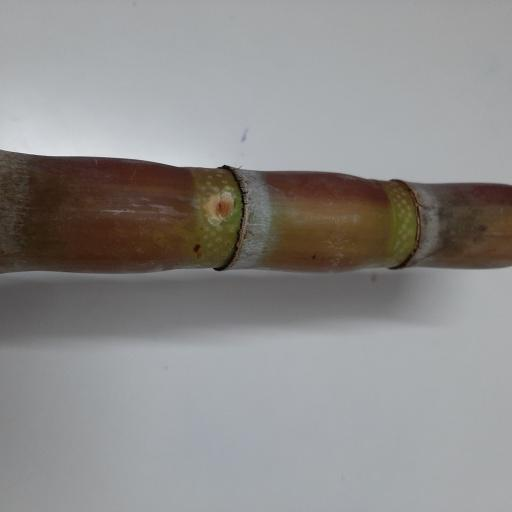Damage_Bud: (204, 189, 238, 225)
